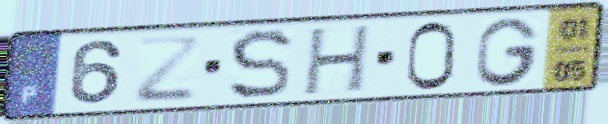0: (403, 18, 460, 92)
6: (69, 38, 126, 108)
G: (473, 14, 543, 89)
H: (299, 22, 376, 99)
S: (226, 26, 296, 103)
Z: (130, 35, 205, 106)
